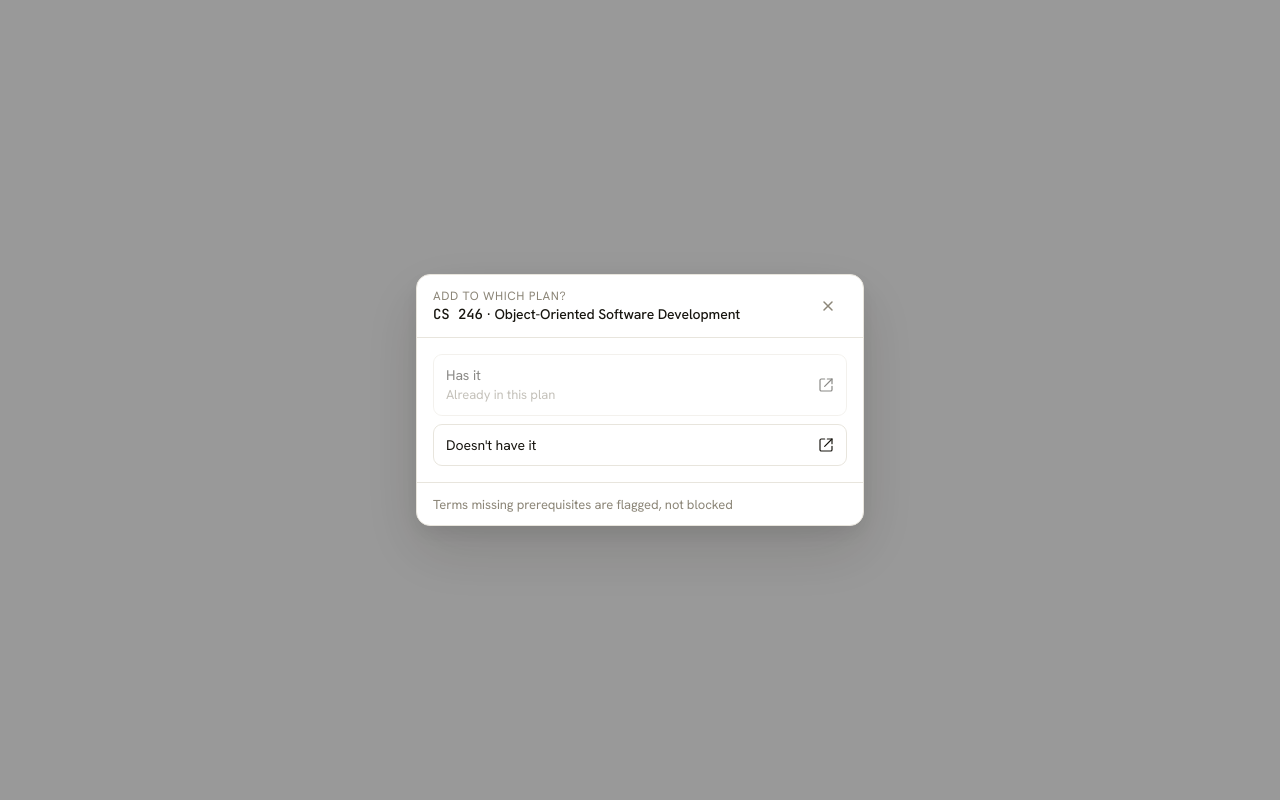
Test case: TermPicker — signed in › greys out plans that already contain the course
Expected: the button "Has it Already in this plan" is disabled, [433,354,847,416]
Expected: the text "Already in this plan" is shown, [446,385,555,404]
Click the button "Doesn't have it". click: point(491, 444)
box: [433,424,847,466]
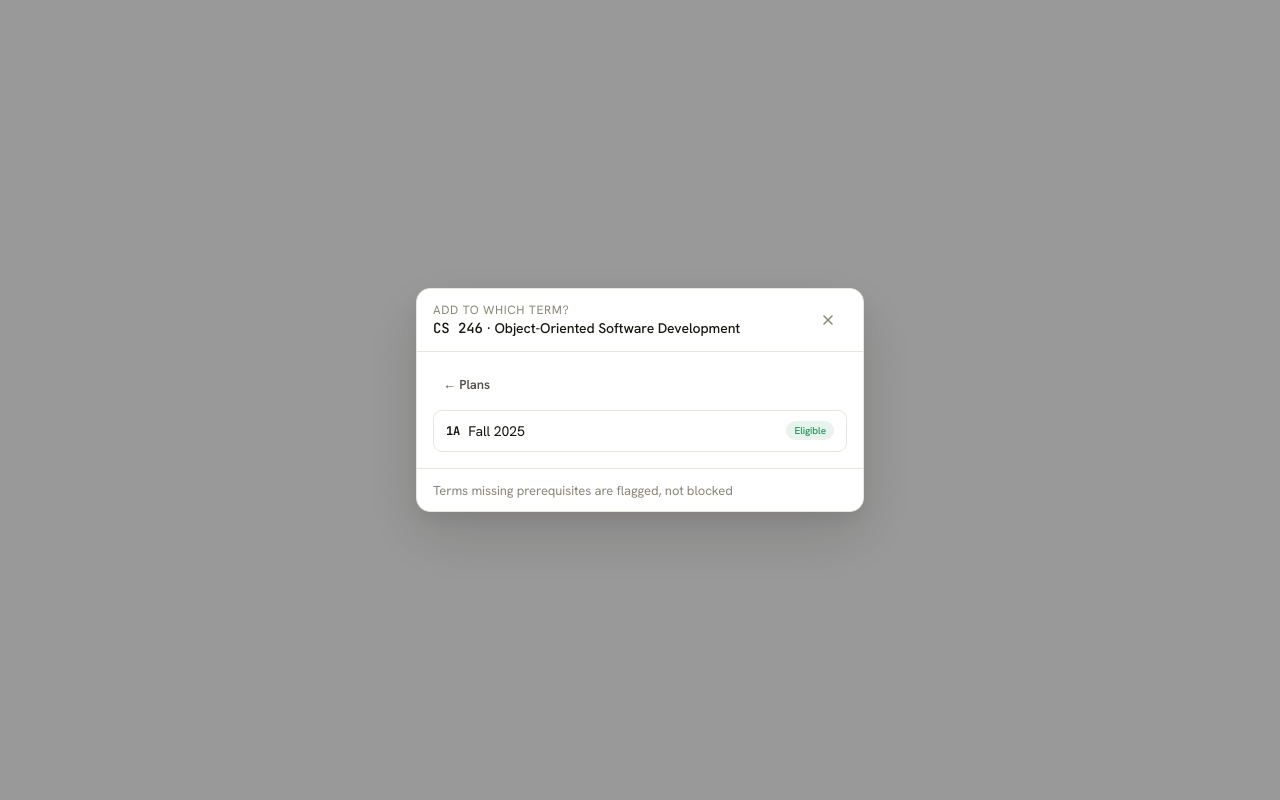
Now the button "1A Fall 2025 Eligible" is shown, box [433,410,847,452]
